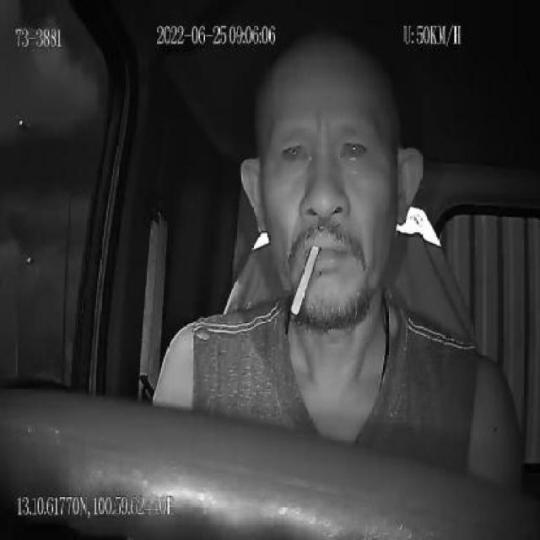smoking: (291, 244, 319, 315)
